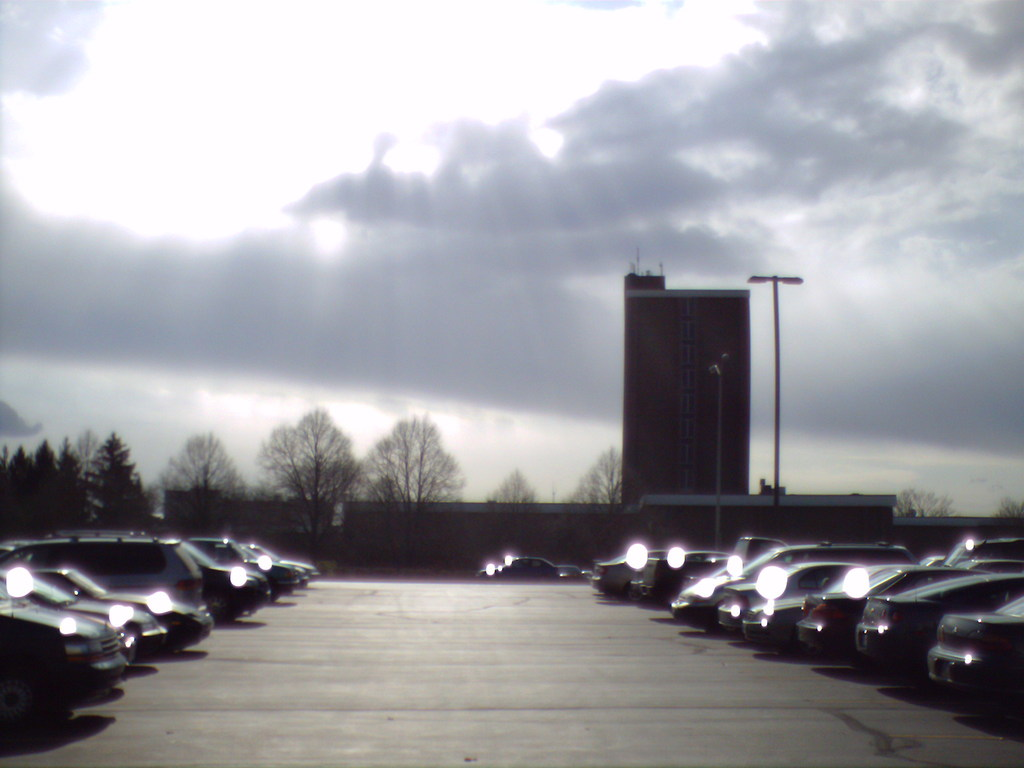Car: (590, 536, 1023, 714), (0, 533, 325, 735), (0, 574, 132, 736), (476, 553, 560, 583)
